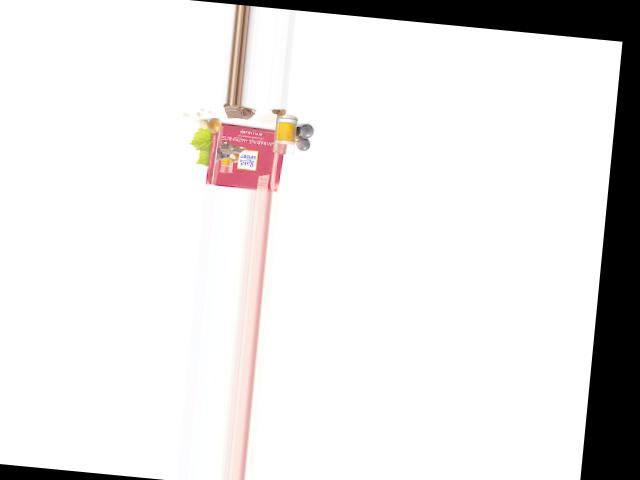chocolate: (203, 122, 284, 191)
